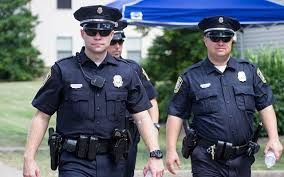gun: (42, 128, 64, 174), (175, 119, 197, 158)
uniform: (35, 57, 135, 168), (178, 60, 260, 164)
